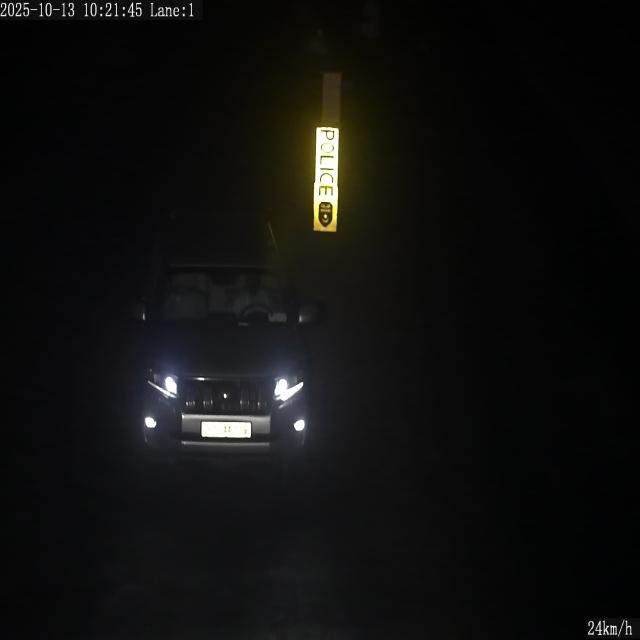BUS: (202, 421, 251, 438)
